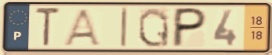4: (211, 8, 239, 48)
A: (61, 7, 104, 48)
I: (119, 6, 130, 50)
P: (170, 6, 209, 49)
Q: (137, 6, 171, 49)
T: (34, 6, 63, 48)
